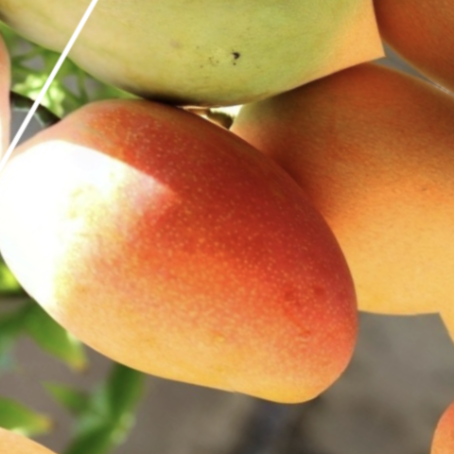mango: (0, 10, 454, 454)
